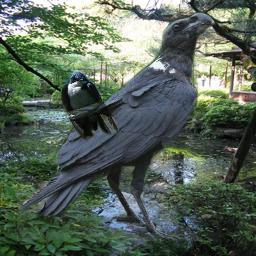Crow: (17, 9, 220, 241)
Swallow: (59, 70, 121, 144)
